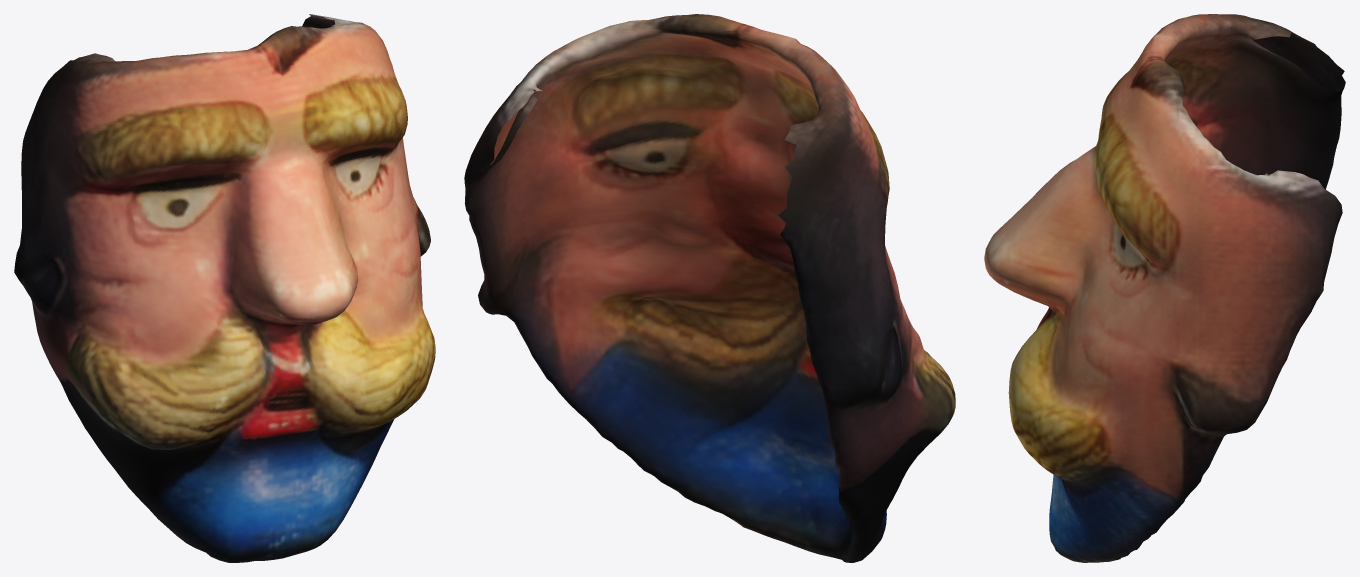
File: viejorubio.glb
3 views of the same model, side by side, from view 1: azimuth 30°, elevation 25°; view 2: azimuth 150°, elevation 25°; view 3: azimuth 270°, elevation 25° (orthographic). The views are drawn at different scales.
Visible parts, largest first — view 1: mesh; view 2: mesh; view 3: mesh.
Boxes of the visible parts, bbox=[...] form: mesh: bbox=[14, 14, 435, 562]; mesh: bbox=[464, 14, 955, 562]; mesh: bbox=[984, 14, 1345, 562].
Bounding box in the file's own units: 1.48 × 1.82 × 1.19.
Materials: 1 (1 with a texture image).
